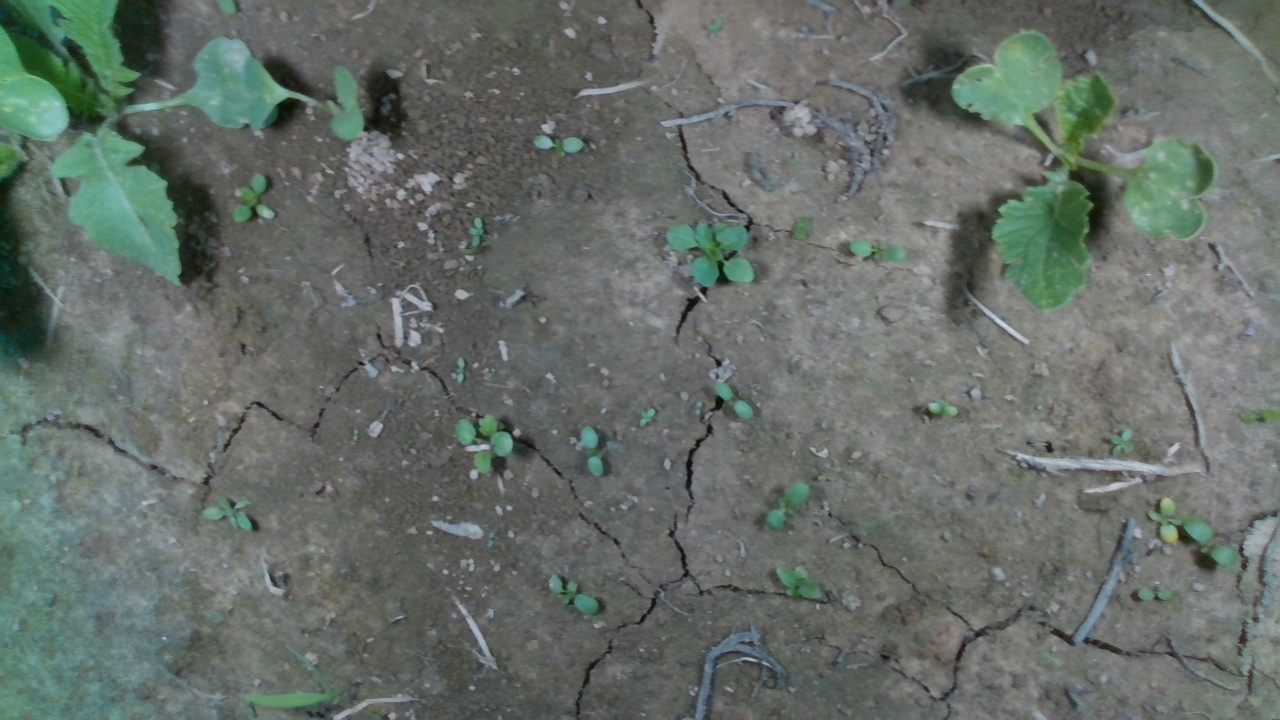weed: (454, 413, 514, 476), (1183, 517, 1235, 567), (200, 493, 255, 533), (766, 480, 809, 531), (548, 574, 600, 616), (234, 172, 276, 222), (1143, 496, 1183, 547), (775, 565, 824, 601), (714, 379, 754, 420), (849, 239, 907, 265), (580, 424, 604, 476), (534, 133, 585, 154), (1109, 427, 1135, 456), (1136, 586, 1174, 603), (927, 402, 959, 418), (467, 216, 483, 247), (638, 406, 655, 428), (455, 357, 465, 384)
